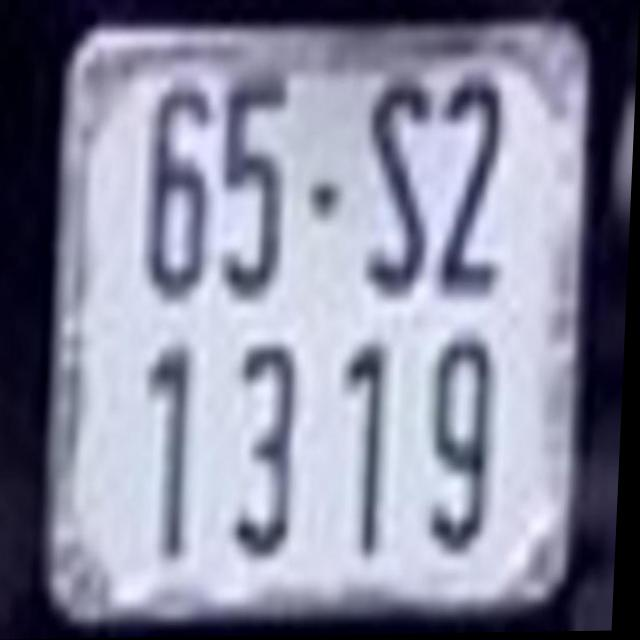1: (338, 333, 396, 557), (143, 343, 200, 567)
2: (441, 79, 509, 296)
3: (239, 340, 300, 556)
5: (218, 81, 291, 308)
6: (149, 86, 216, 295)
9: (434, 325, 498, 555)
S: (365, 76, 441, 293)
